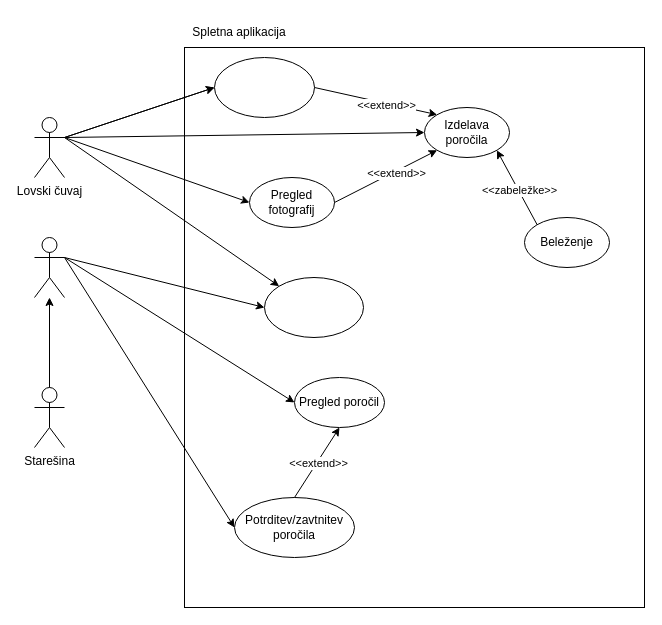
Image size: 662x625. Some labels were removed from this diagram. The centre of each missing label's shape, as x and y in pixels:
"Gospodar" belongs at (x=49, y=267).
"Pregled zvočnih posnetkov" belongs at (x=264, y=87).
"Prijava/odjava v aplikacijo" belongs at (x=314, y=307).
